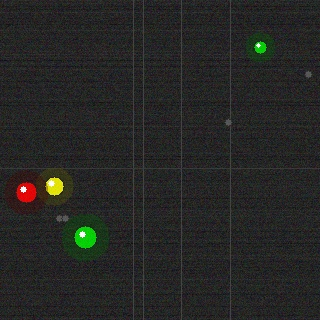green_normal: (72, 224, 98, 250), (252, 39, 268, 55)
red_fault: (14, 180, 38, 204)
yellow_warning: (43, 175, 65, 197)
